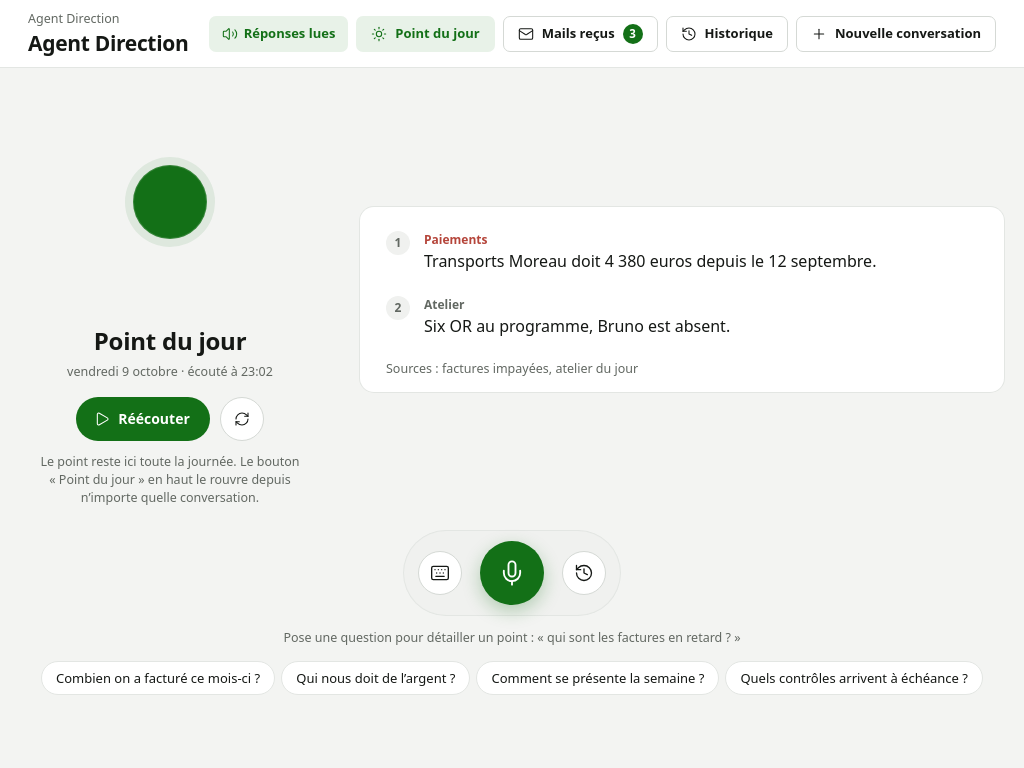
Test: Agent Direction › point du jour refait avec les données du moment
This screenshot has width=1024, height=768.
Expected: the text "Transports Moreau doit 4 380 euros depuis le 12 septembre." is shown, [424,250,876,274]
Expected: the text "Sources : factures impayées, atelier du jour" is shown, [386,360,638,377]
Step 1. Click the button named "Refaire le point avec les données du moment" → (242, 419), box [220,397,264,441]
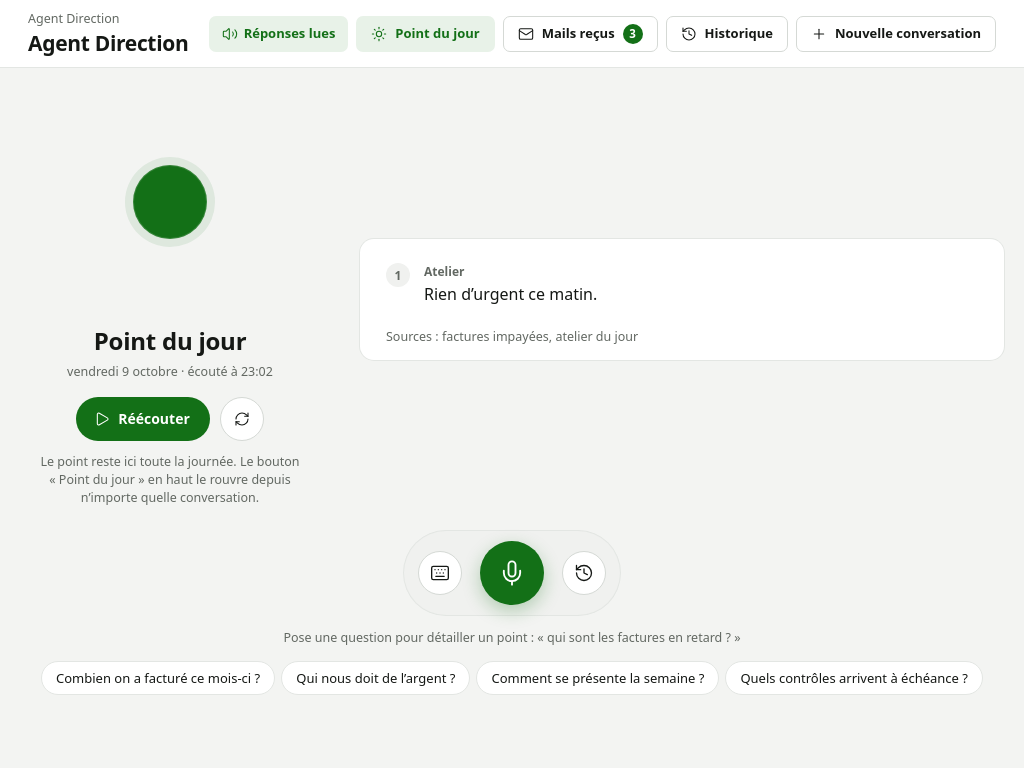
Expected: the text "Rien d’urgent ce matin." is shown, [424,283,597,306]
